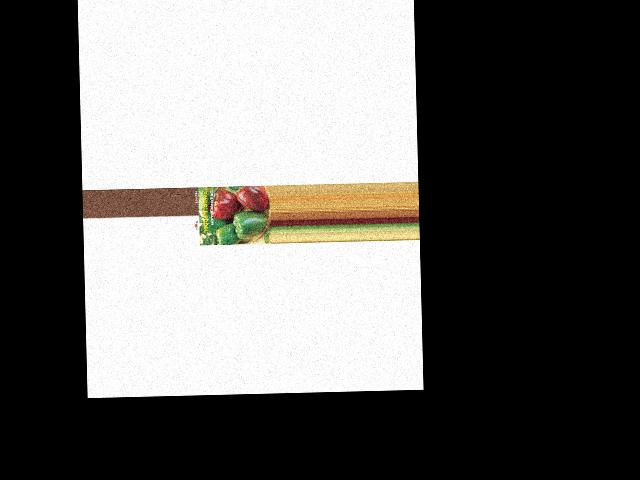bell_pepper: (213, 225, 244, 246)
